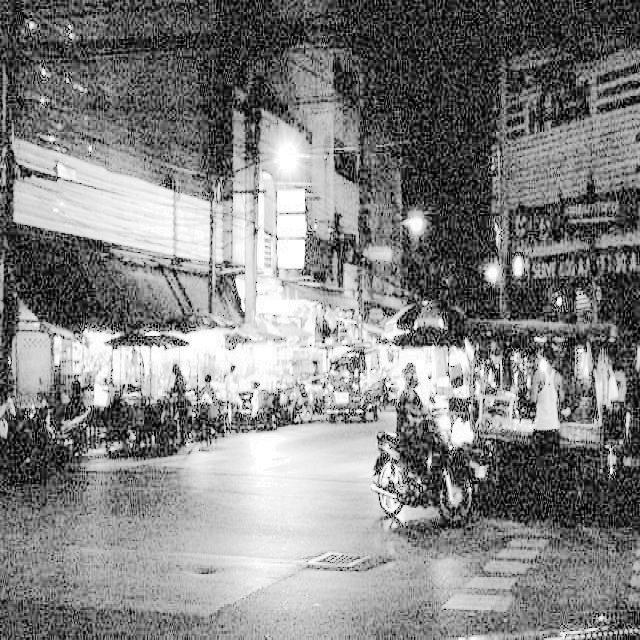Motorcycle: (355, 401, 491, 527), (0, 378, 27, 489)
Person: (396, 355, 444, 487), (166, 349, 204, 439), (224, 337, 244, 442)
